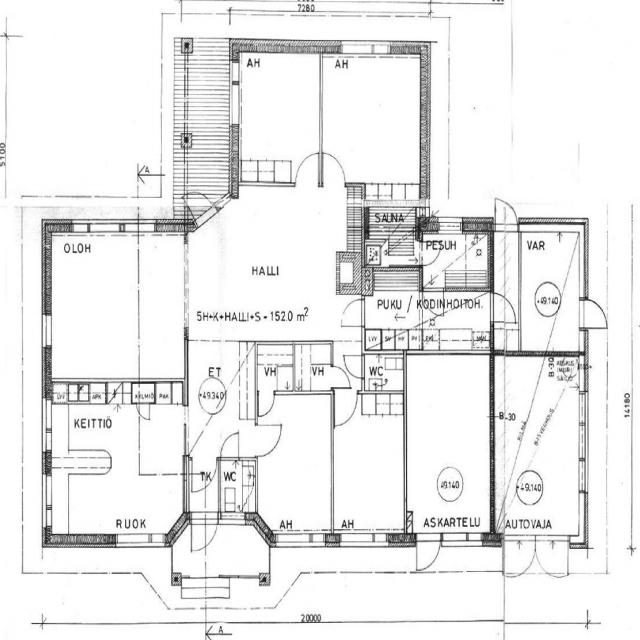door: (504, 533, 536, 590), (536, 533, 568, 590), (184, 181, 217, 227), (191, 512, 217, 558), (417, 533, 440, 578), (495, 188, 518, 232), (192, 457, 217, 494), (578, 300, 610, 328), (255, 425, 281, 456), (295, 153, 318, 187), (334, 391, 357, 424), (490, 293, 516, 322), (324, 153, 346, 187), (423, 288, 444, 318), (341, 300, 364, 326), (416, 241, 440, 264), (344, 355, 364, 378), (221, 434, 238, 460), (330, 366, 350, 388), (258, 390, 274, 414)
